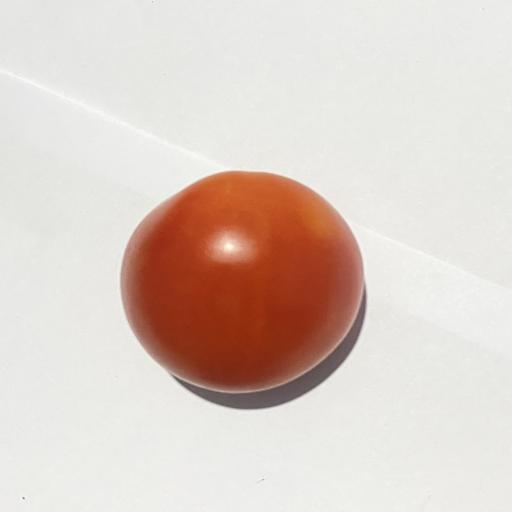ripe: (121, 171, 363, 393)
